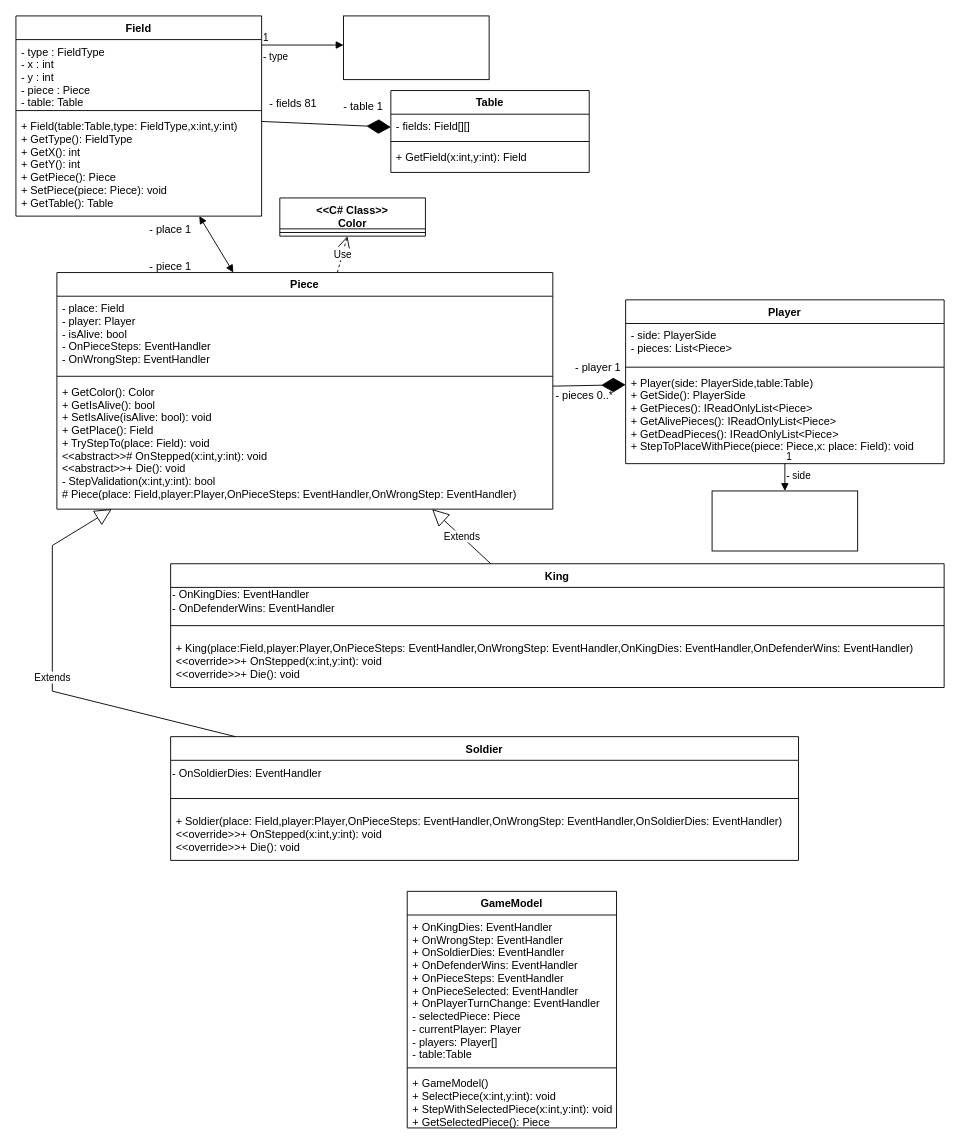
Some shapes in this 960 by 1147 pixel diagram are drawn without their labels. The centre of each missing label's shape, as x and y in pixels:
FieldType Normal = 0 Forbidden = 1: [416,47]
PlayerSide Attacker = 0 Defender = 1: [784,520]
